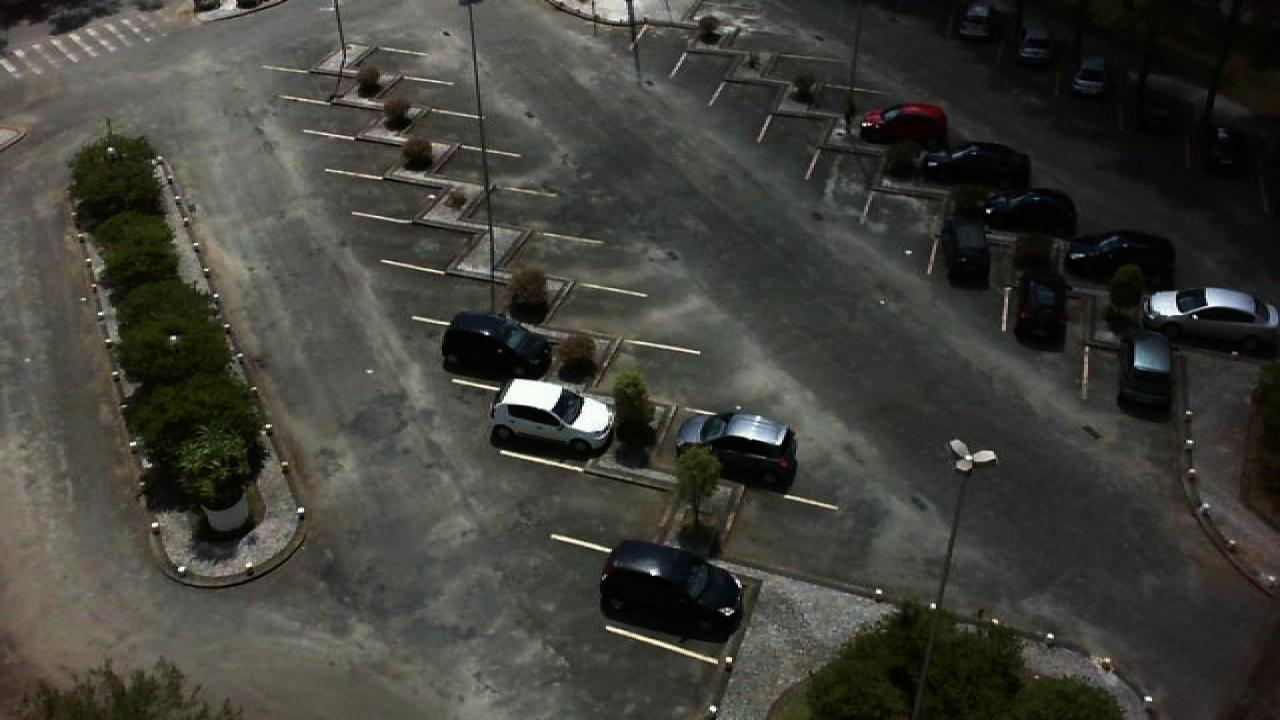Car: (598, 540, 742, 641), (488, 378, 620, 456), (674, 410, 798, 490), (1140, 286, 1280, 356), (440, 310, 552, 375), (1060, 230, 1178, 282), (920, 140, 1032, 186), (1116, 326, 1176, 406), (978, 187, 1078, 235), (1010, 274, 1068, 348), (940, 217, 996, 288), (856, 102, 950, 143), (1200, 124, 1244, 173), (1130, 91, 1176, 134), (1068, 56, 1110, 98), (954, 0, 998, 40), (1014, 26, 1056, 67)
